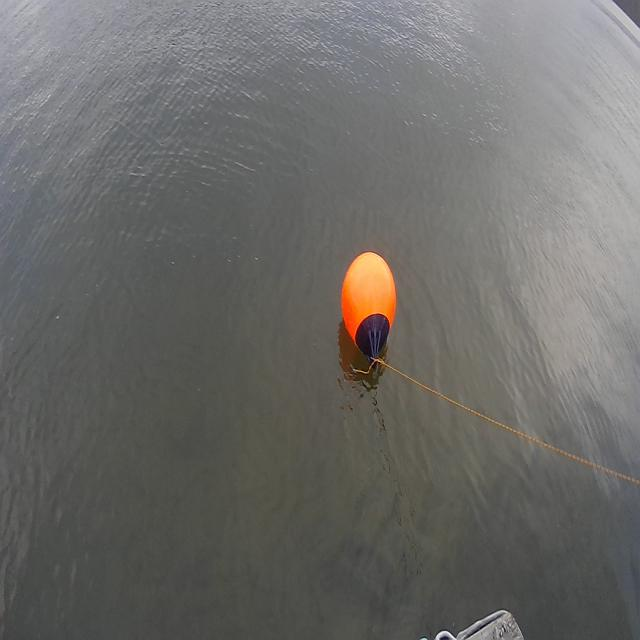Buoy: (338, 243, 399, 364)
